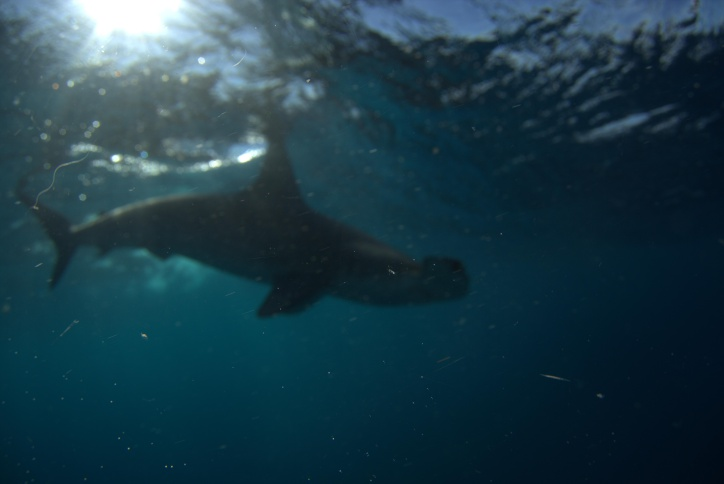Hammer: (16, 126, 485, 333)
